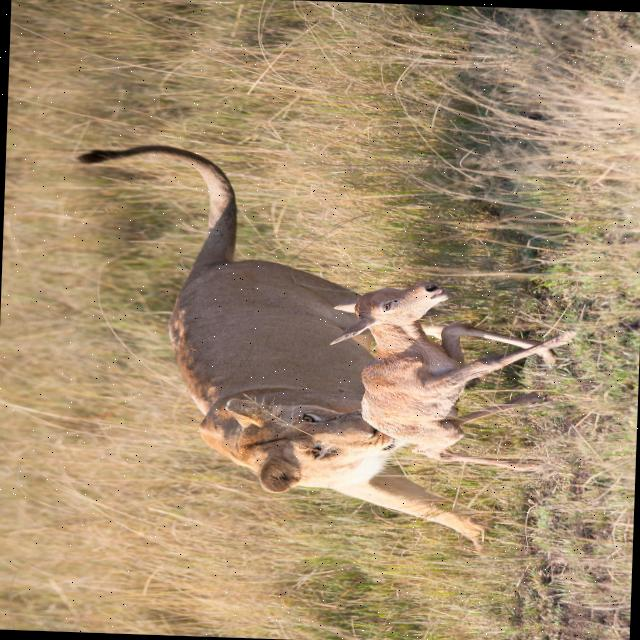Lion: (62, 140, 507, 549)
